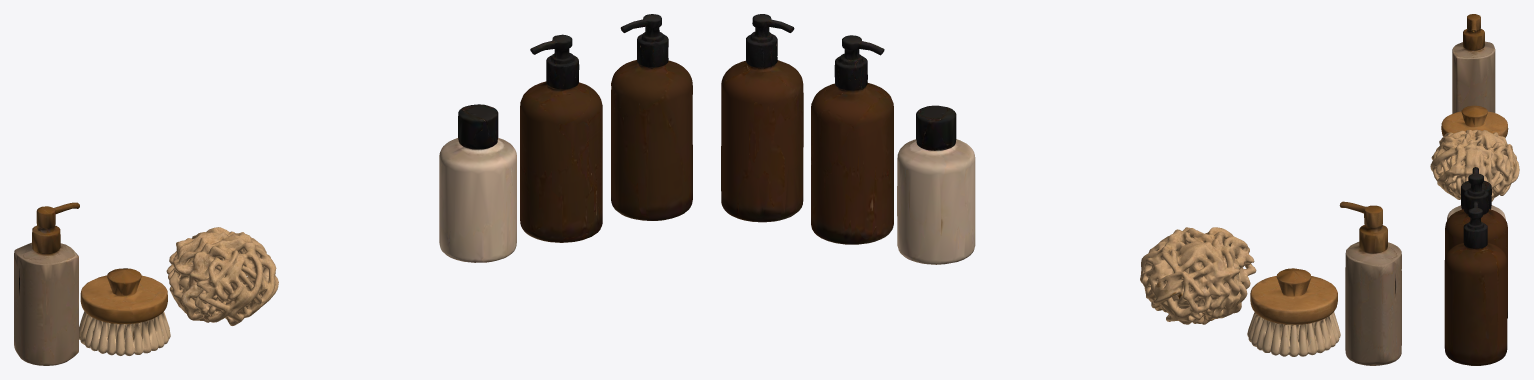
The model's file is mbath-bottles.glb.
3 views of the same model, side by side, from view 1: azimuth 30°, elevation 25°; view 2: azimuth 150°, elevation 25°; view 3: azimuth 270°, elevation 25° (orthographic). The views are drawn at different scales.
Bounding box in the file's own units: 1.9 × 0.5233 × 0.2876.
Materials: 1 (1 with a texture image).
